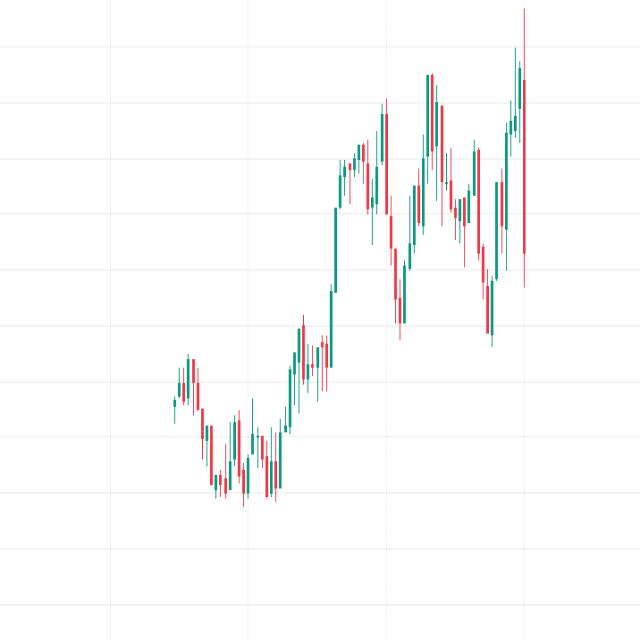Triple-Bottom: (199, 405, 298, 518)
